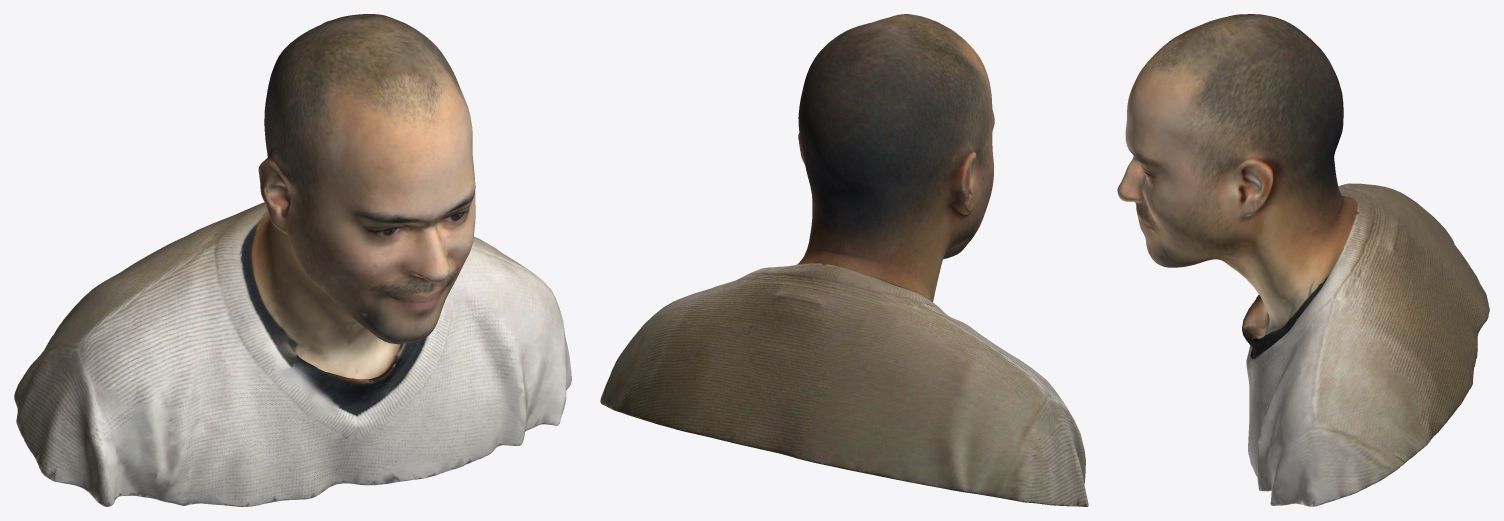
The model's file is peko2.glb.
3 renders of one model, left to right at view 1: azimuth 30°, elevation 25°; view 2: azimuth 150°, elevation 25°; view 3: azimuth 270°, elevation 25°, orthographic. The views are drawn at different scales.
Visible parts, largest first — view 1: mesh; view 2: mesh; view 3: mesh.
Part boxes in pixels (x1,y1,x2,y2): mesh: (14,14,571,506); mesh: (600,14,1088,506); mesh: (1117,14,1489,506).
Bounding box in the file's own units: 9.54 × 8.24 × 6.9.
Materials: 1 (1 with a texture image).
